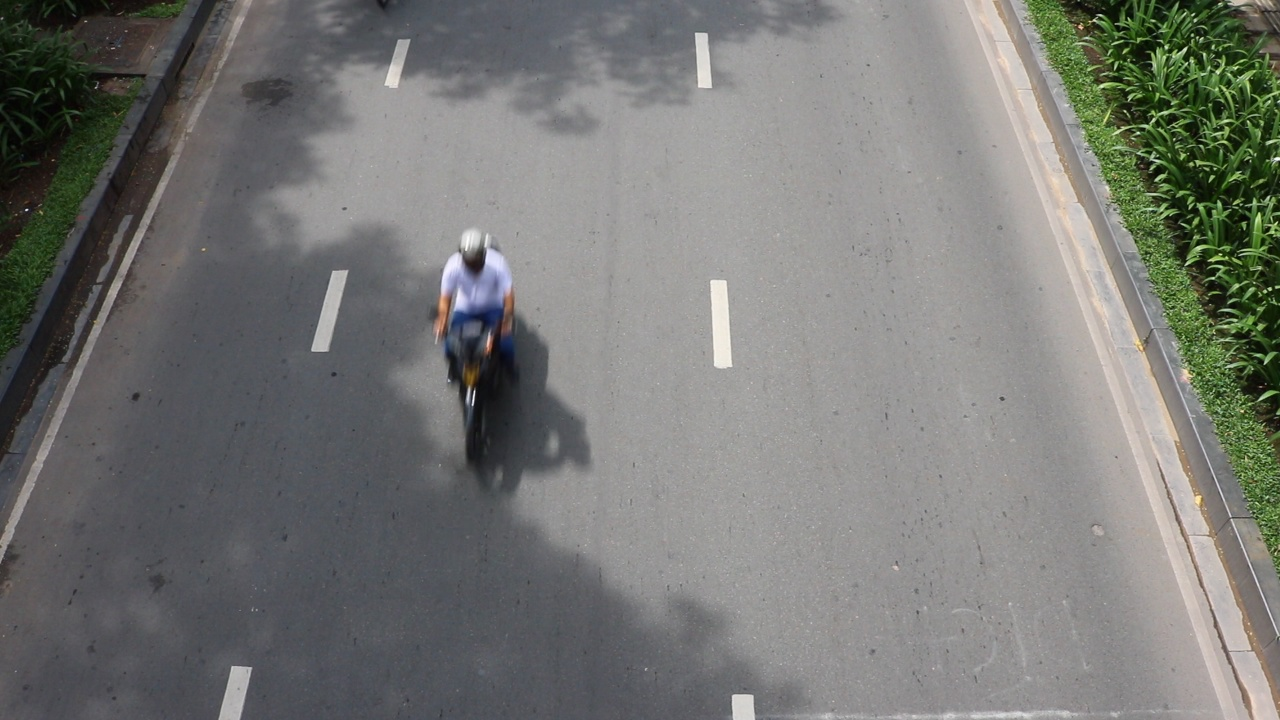motorcycle: (434, 319, 514, 465)
